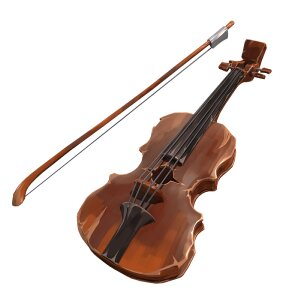Fiddle: (74, 22, 277, 282)
